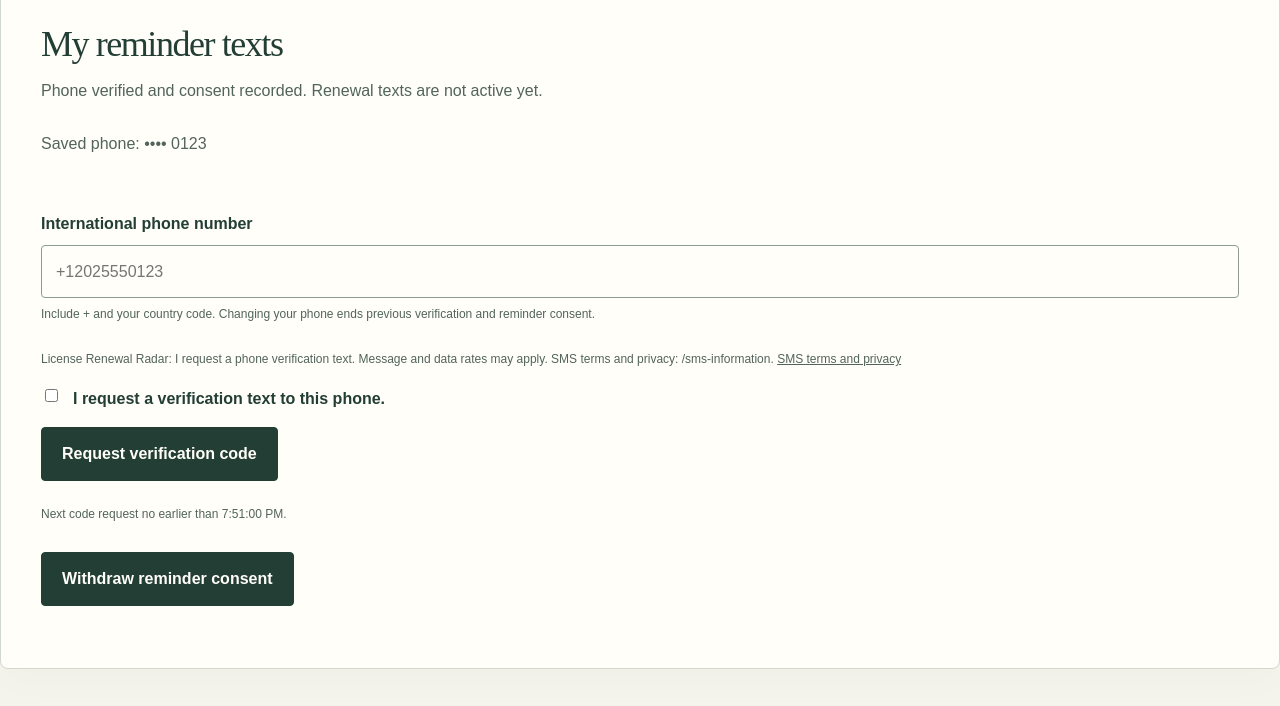
Test: Phone replacement invalidates prior proof
In the field labelled "International phone number": (640, 272) x1=41 y1=245 x2=1239 y2=298, type "+12025550124"
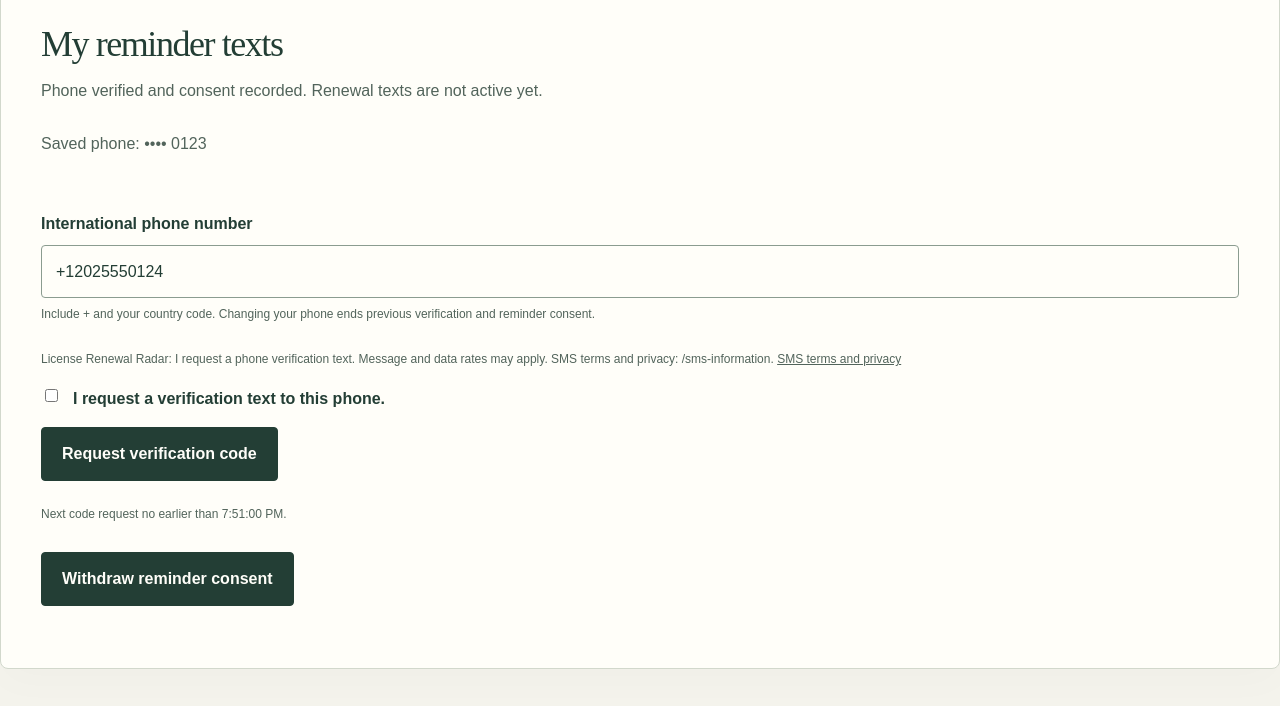
Submit the form named "Request verification code", box x1=41 y1=185 x2=1239 y2=481
Submit the form named "Request verification code", box x1=41 y1=185 x2=1239 y2=481
(page scrolled)
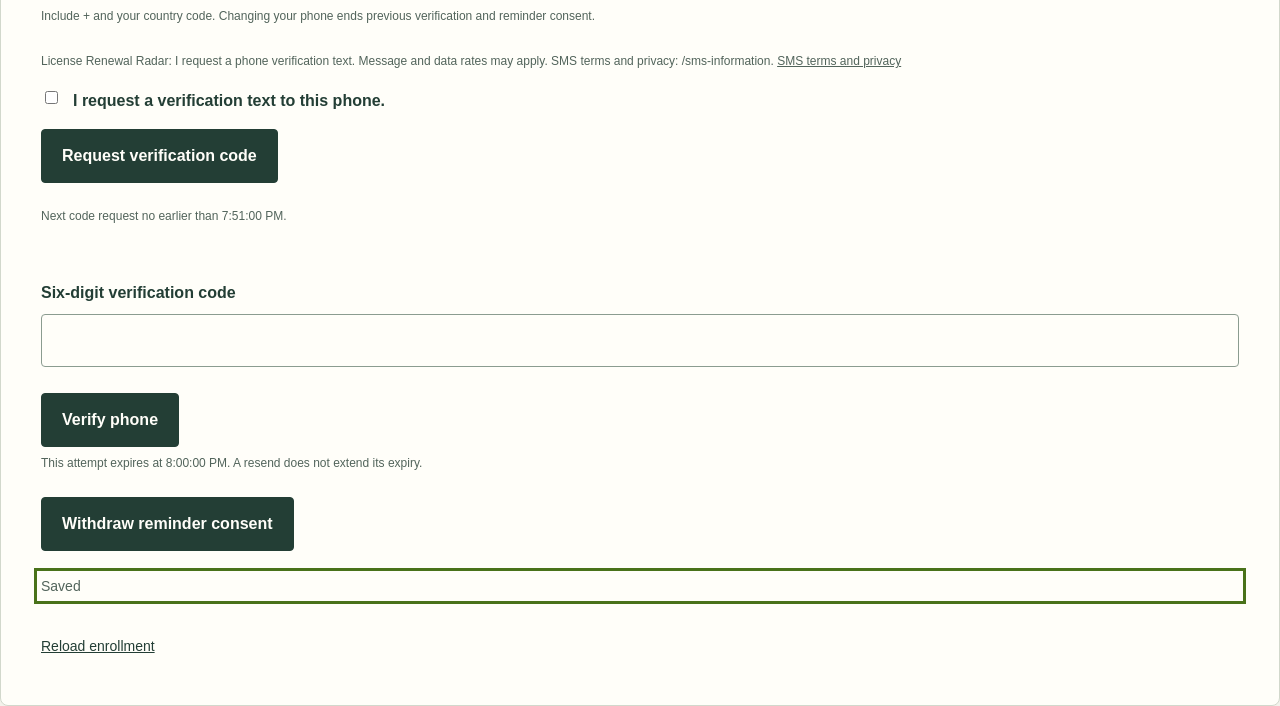
Expected: the message reads "Saved", x1=41 y1=578 x2=81 y2=594
